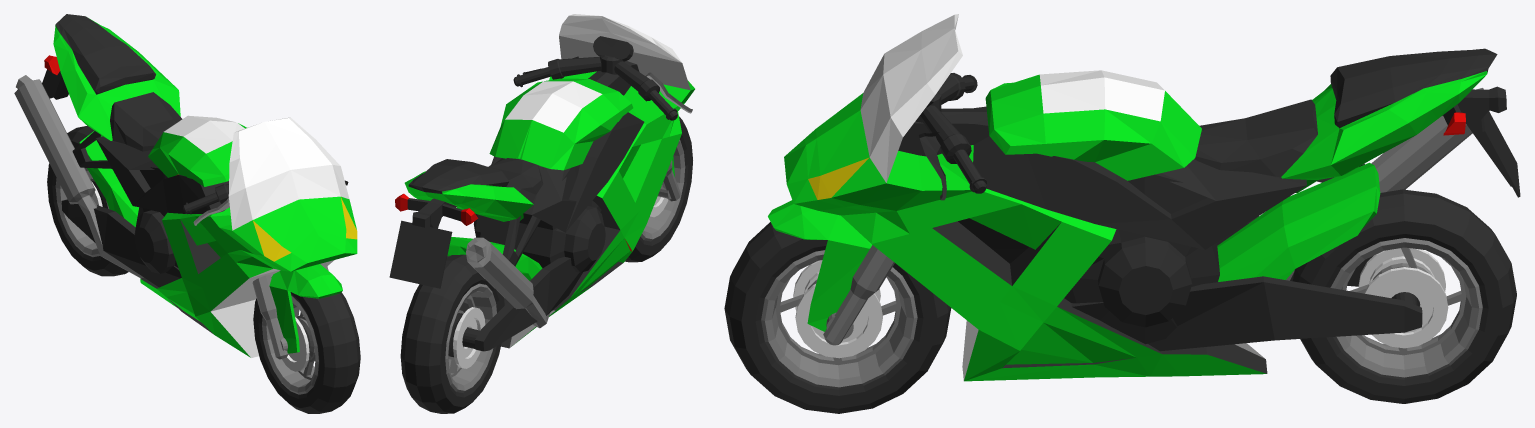
File: CustomMotor.glb
The picture shows the model from 3 angles, left to right: view 1: azimuth 30°, elevation 25°; view 2: azimuth 150°, elevation 25°; view 3: azimuth 270°, elevation 25°; orthographic projection. The views are drawn at different scales.
Parts seen in each view (by area): view 1: Motorcycle; view 2: Motorcycle; view 3: Motorcycle.
Part boxes in pixels (x1,y1,x2,y2): Motorcycle: (14, 14, 360, 413); Motorcycle: (389, 14, 694, 413); Motorcycle: (724, 14, 1520, 413).
Size of the model in its own units: 0.8026 by 1.26 by 2.39.
Materials: 7 (1 with a texture image).
